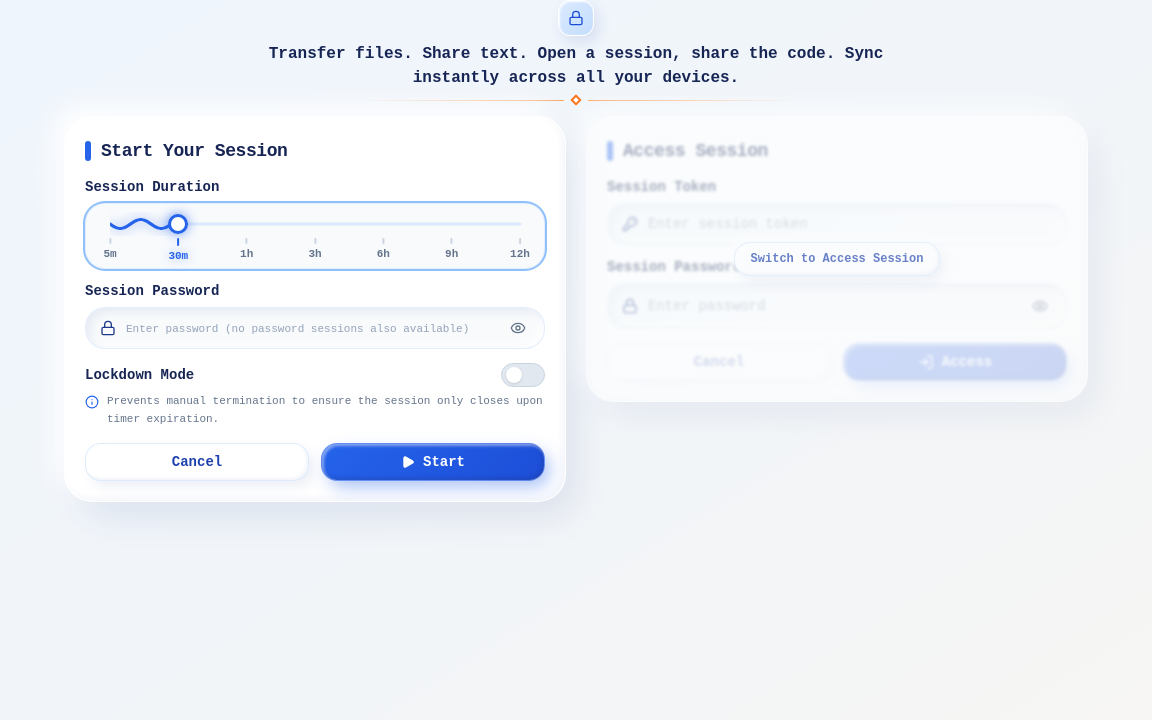
Test case: Enigma Drive Two-Page Workspace › validates Access Session, handles access error, and enforces Lockdown Mode on End button
Note: Activate Access Session card first
Click the button "Switch to Access Session" at (837, 259), box x1=587 y1=117 x2=1087 y2=401
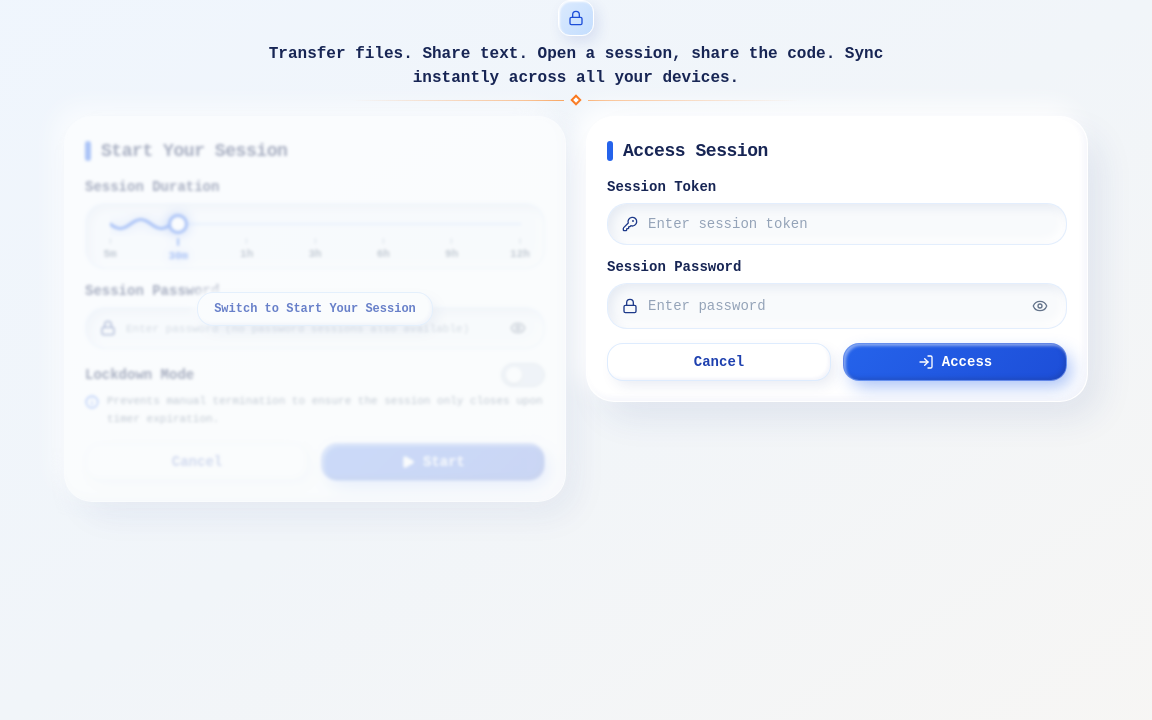
Note: Missing token inline error
Click the button "Access" at (955, 362), box x1=843 y1=343 x2=1067 y2=381
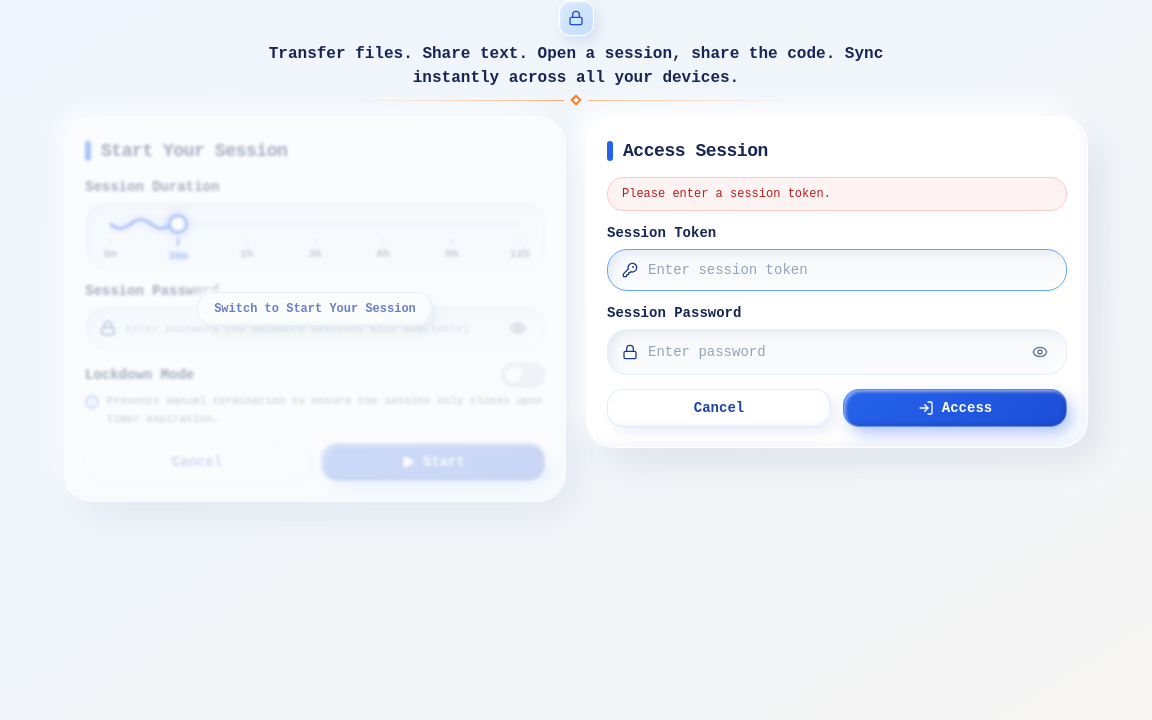
Check: the text "Please enter a session token." is shown, box x1=607 y1=177 x2=1067 y2=211
Note: Wrong password error
Type "anedoo" into the field labelled "Session Token" at (850, 270), box x1=648 y1=260 x2=1052 y2=280
Type "wrong" into the password field with id "drive-access-password" at (833, 352), box x1=648 y1=342 x2=1018 y2=362
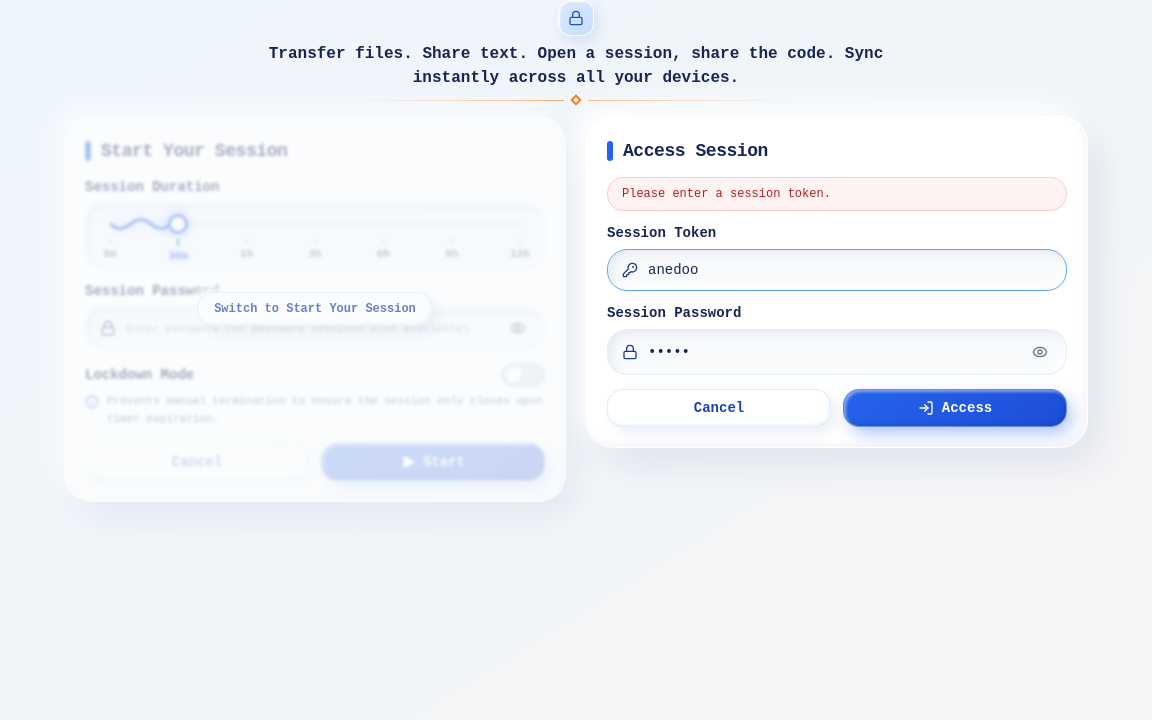
Click the button "Access" at (955, 408), box x1=843 y1=389 x2=1067 y2=427
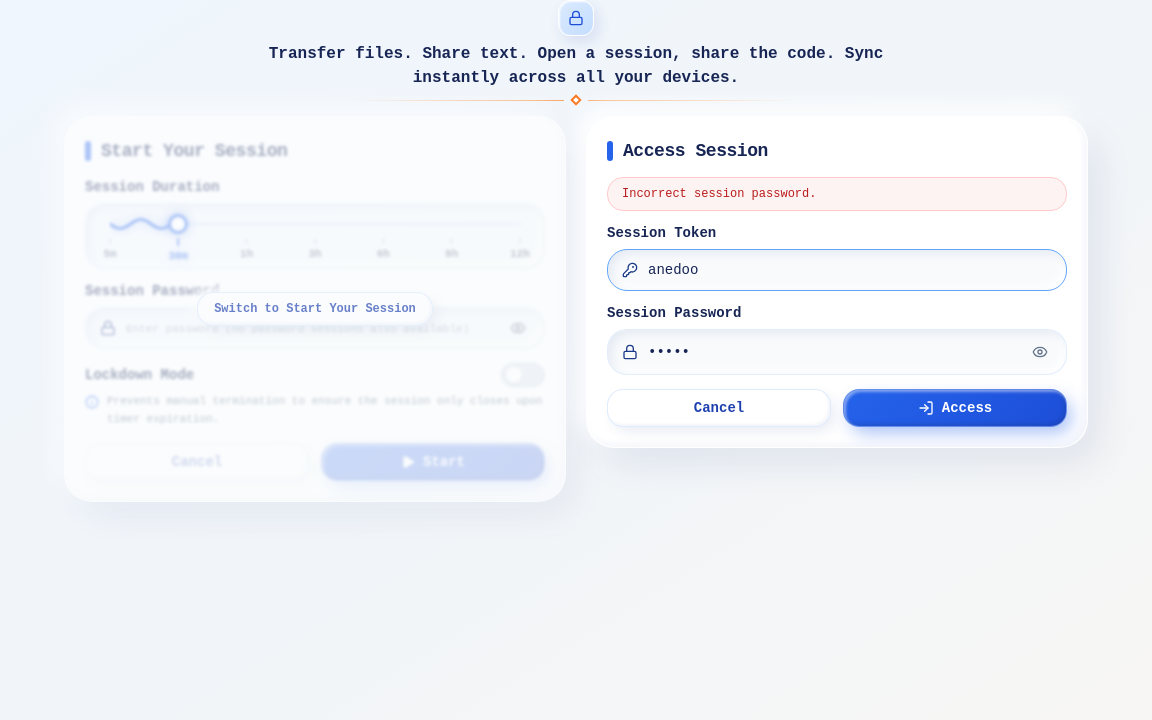
Check: the text "Incorrect session password." is shown, box x1=607 y1=177 x2=1067 y2=211
Note: Successful join enters Lockdown session where manual End is disabled
Clear the password field with id "drive-access-password" at (833, 352), box x1=648 y1=342 x2=1018 y2=362
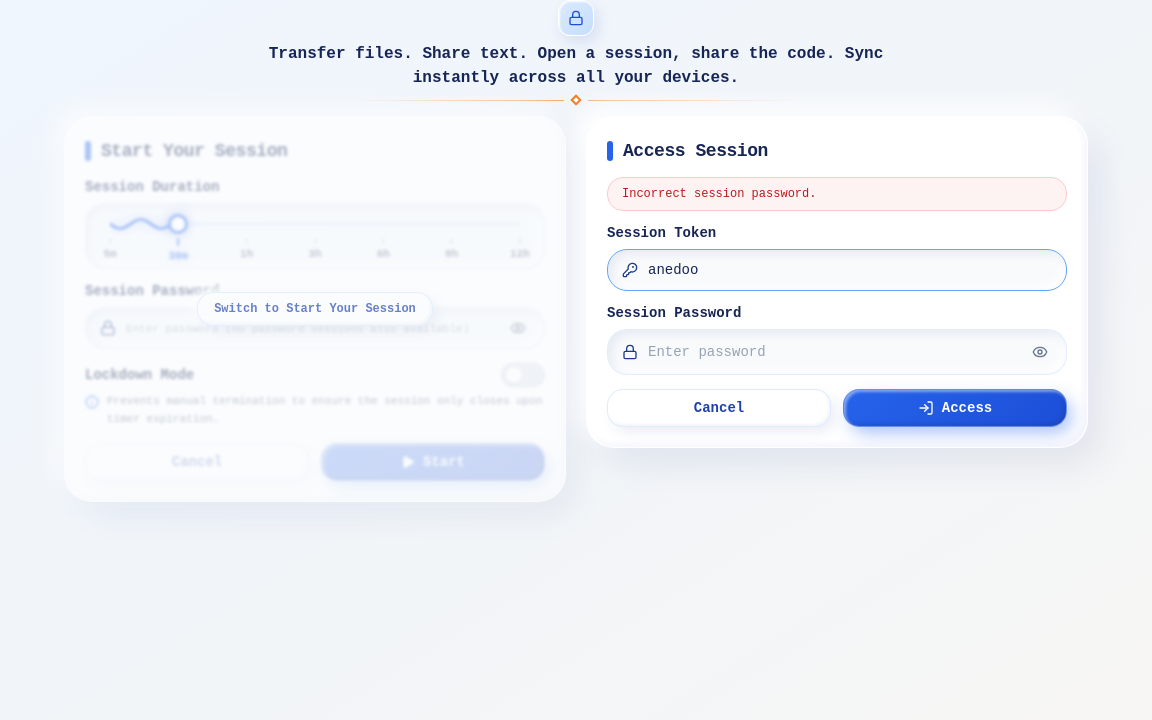
Click the button "Access" at (955, 408), box x1=843 y1=389 x2=1067 y2=427
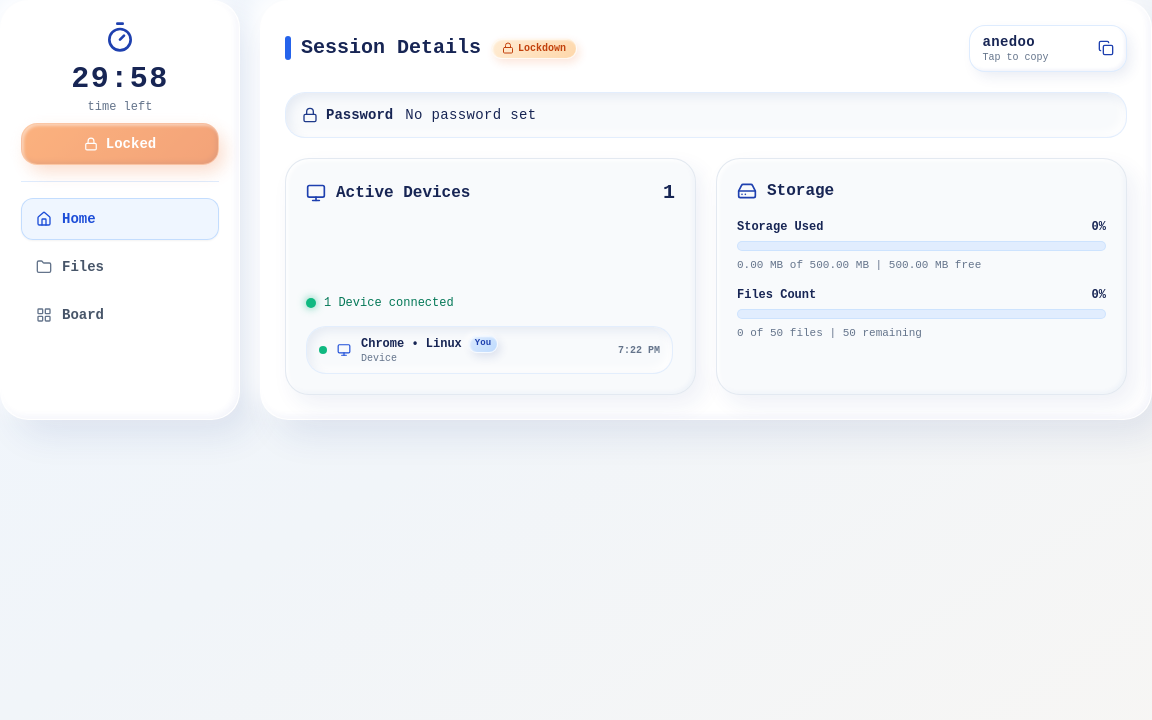
Check: the heading "Session Details" is shown, box x1=301 y1=34 x2=481 y2=62
Check: the button "Locked" is disabled, box x1=21 y1=123 x2=219 y2=165
